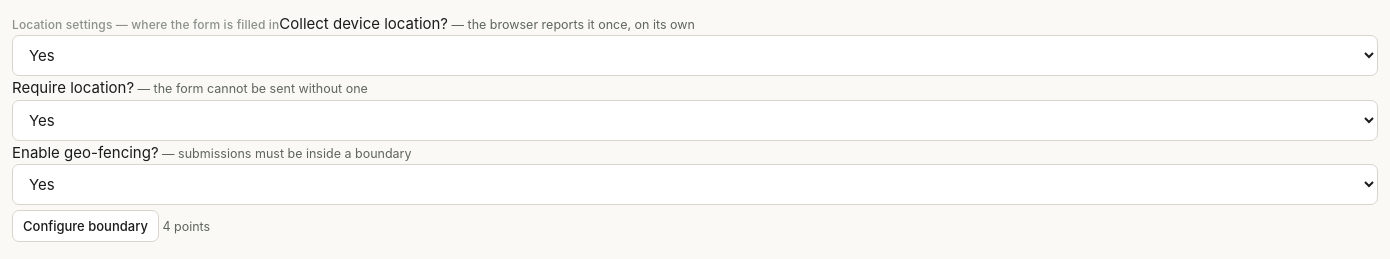
Test case: the form-level location settings › turning it off takes the fence with it
This screenshot has width=1390, height=259.
Select "No" in the dropdown labelled "Collect device location?" at (695, 56), box 12,35 -> 1378,76
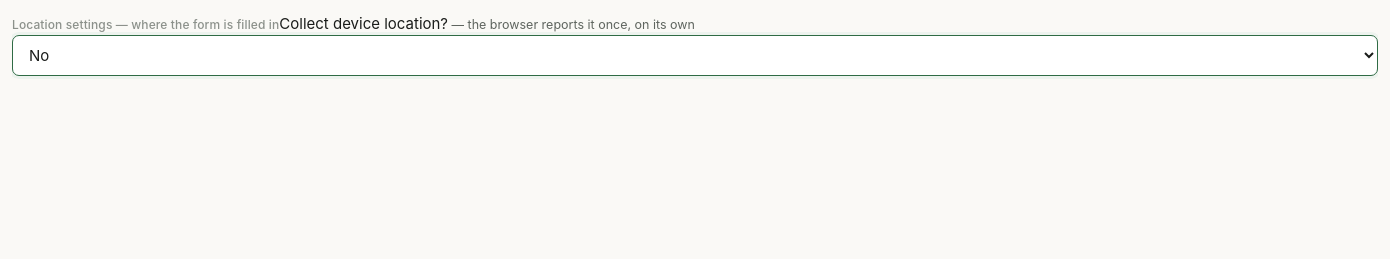
Expected: the field labelled "Enable geo-fencing?" is gone
